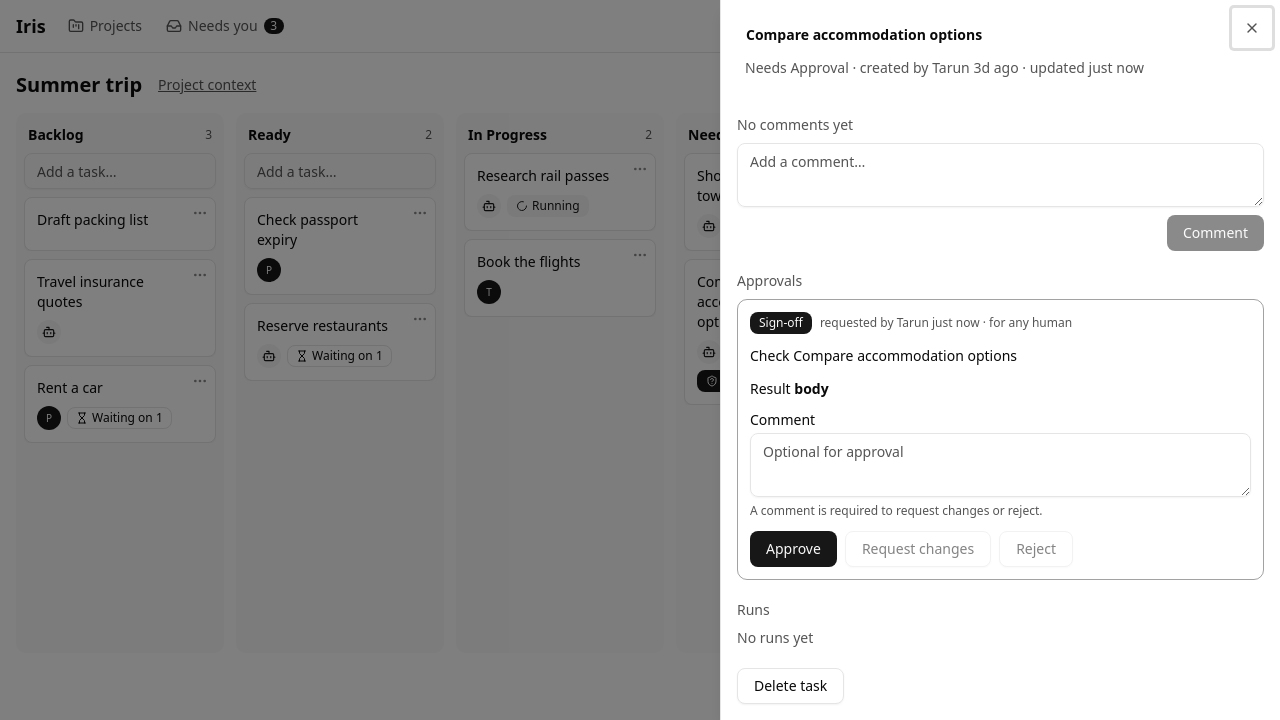
Test case: approval decisions in the drawer › sign_off + Request changes moves the card to changes_requested
(page scrolled)
expect the element with test id "pending-approval" is shown: met, box [737,299,1264,580]
expect the element named "Backlog" is shown: met, box [16,113,224,653]
Type "Because reasons" into the text box labelled "Comment" at (1000,465), box [750,433,1251,497]
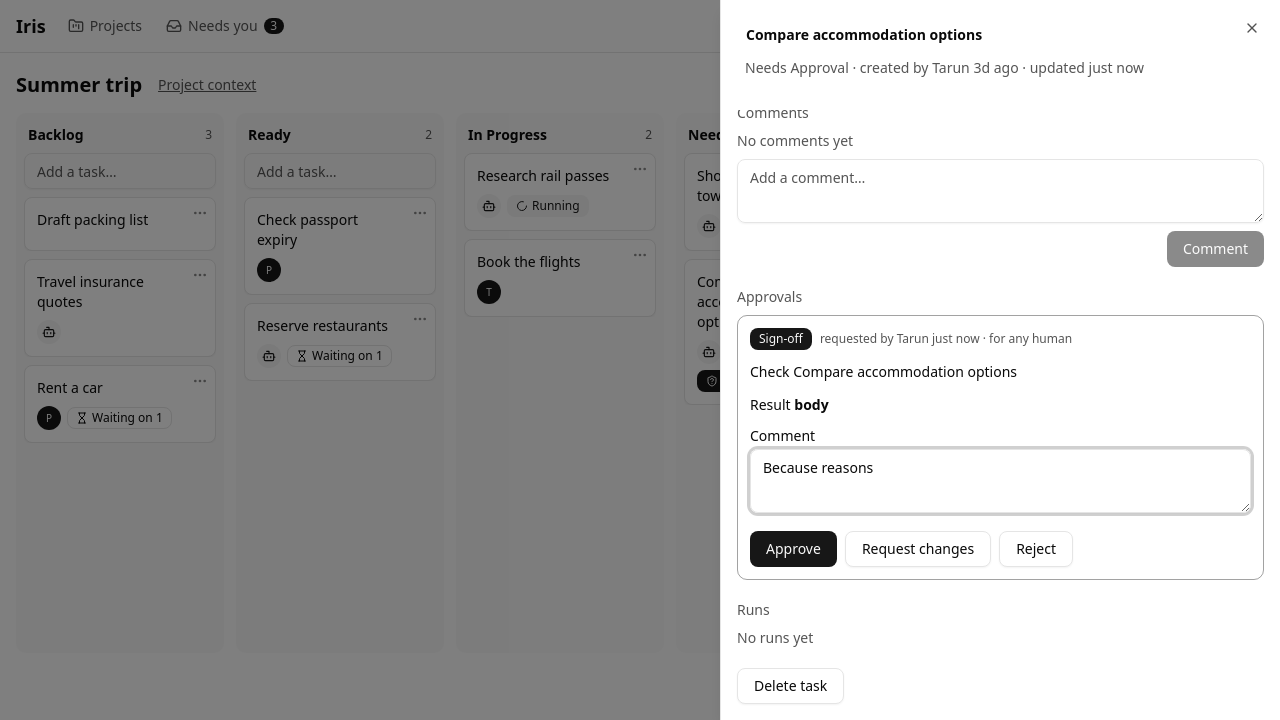
Click the button "Request changes" at (918,549), box [845,531,991,567]
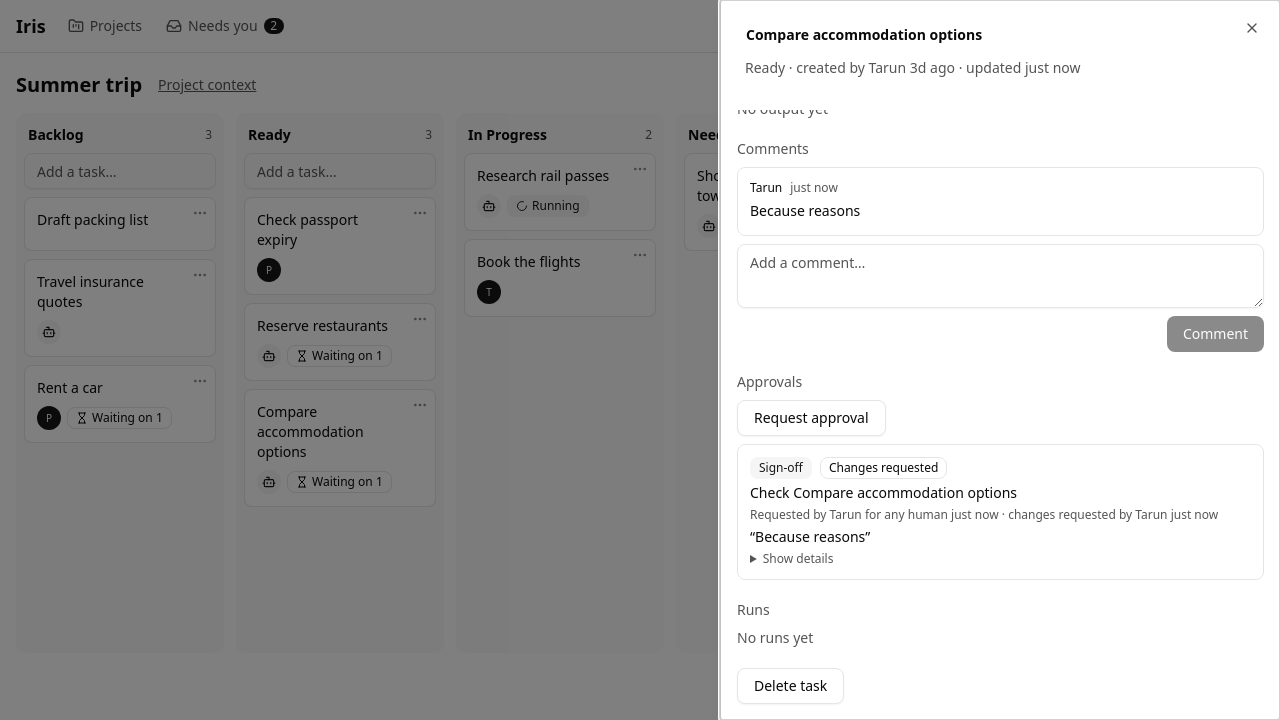
expect the text "Compare accommodation options" is shown: met, box [257,402,364,461]
expect the element with test id "pending-approval" is gone: met
expect the text "“Because reasons”" is shown: met, box [750,527,870,546]
